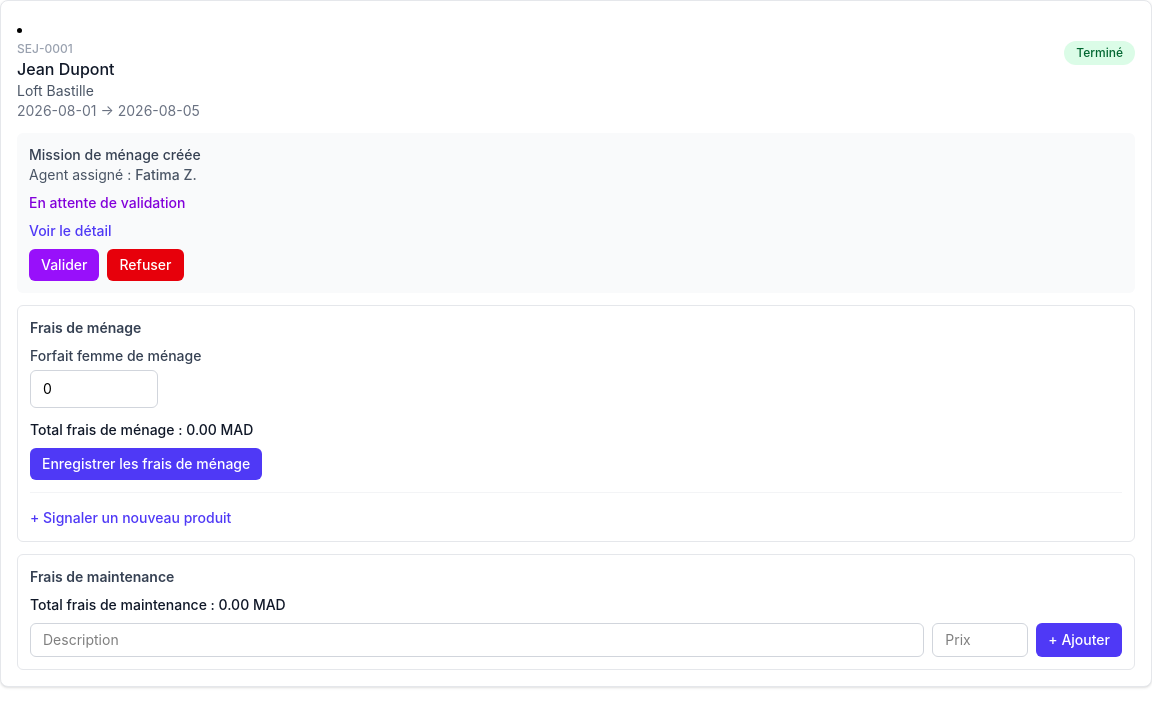
SejourCard › affiche le panneau de détail (checklist + produits signalés) à côté de "Valider"
Click the button "Voir le détail" at (70, 231), box 29,221 -> 112,241
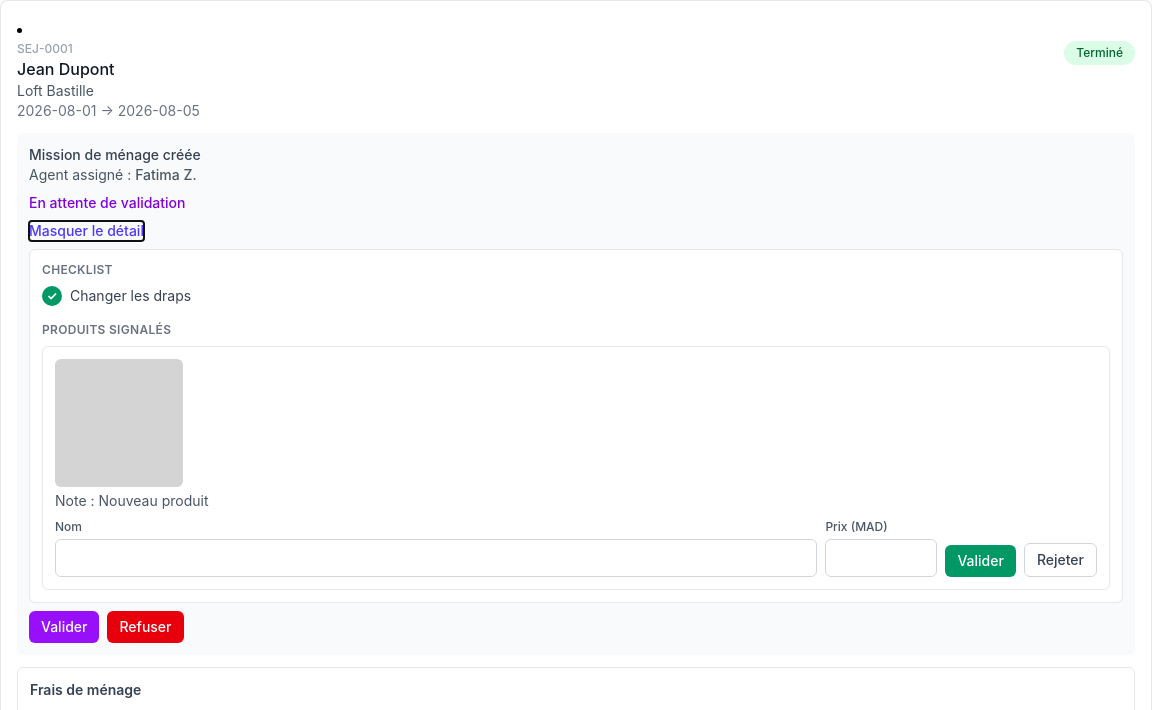
Result: the text "Changer les draps" is shown at 70,286 -> 191,306
Result: the text "Note : Nouveau produit" is shown at 55,492 -> 208,509
Result: the number of buttons "Valider" is 2 at 945,545 -> 1016,577; 29,611 -> 100,643
